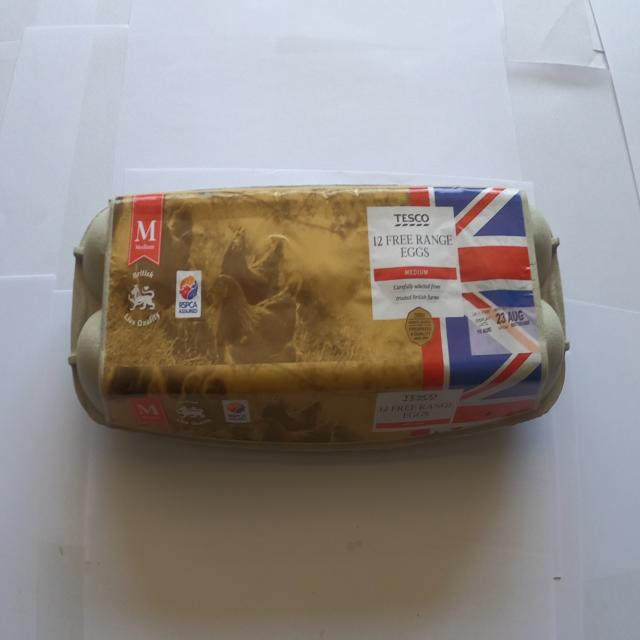Egg: (58, 148, 592, 474)
